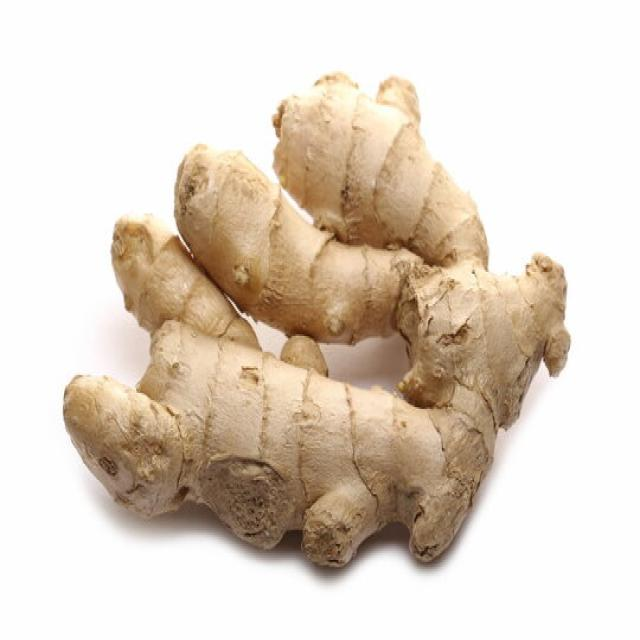Ginger: (66, 261, 574, 537), (173, 140, 426, 345), (270, 70, 490, 268), (109, 210, 261, 350)
